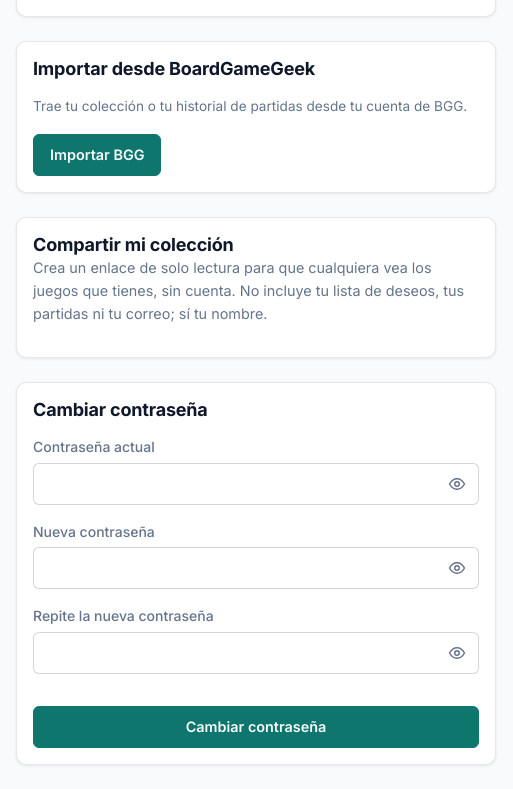
Test: ProfileView change password form › shows a field error when the current password is wrong
(page scrolled)
Type "wrong" into the password field with id "current_password" at (256, 484), box [33,463,479,505]
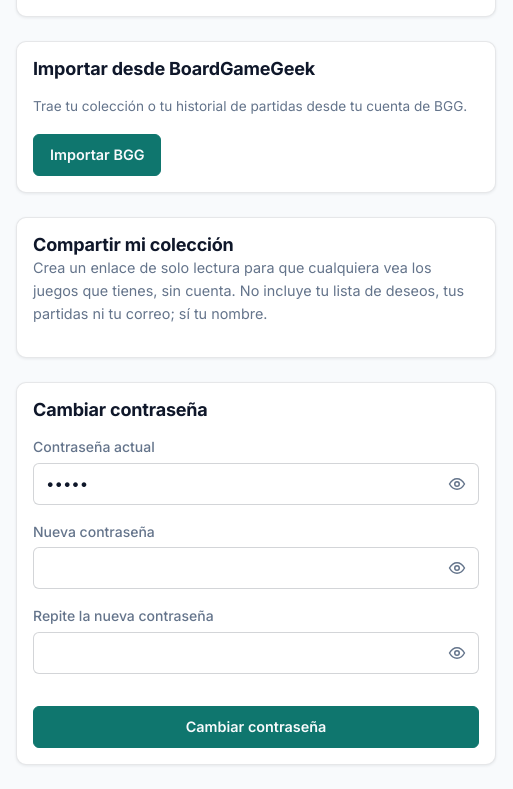
Type "new-password" into the password field with id "new_password" at (256, 568), box [33,547,479,589]
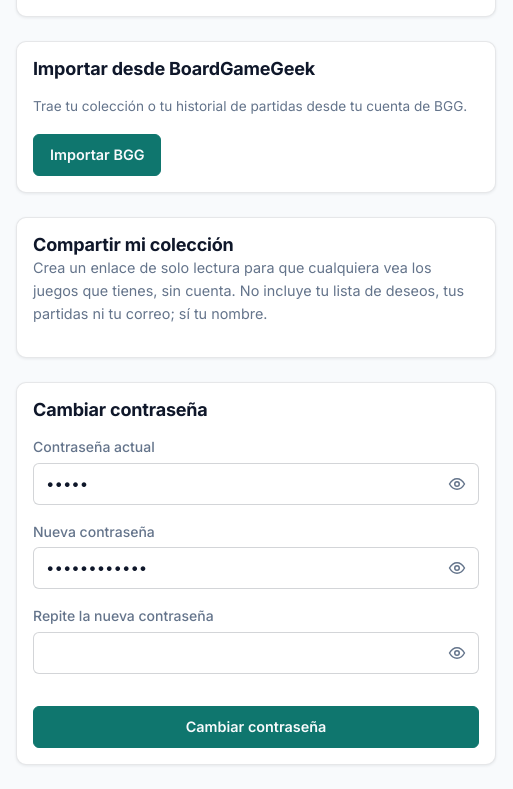
Type "new-password" into the password field with id "new_password_confirmation" at (256, 653), box [33,632,479,674]
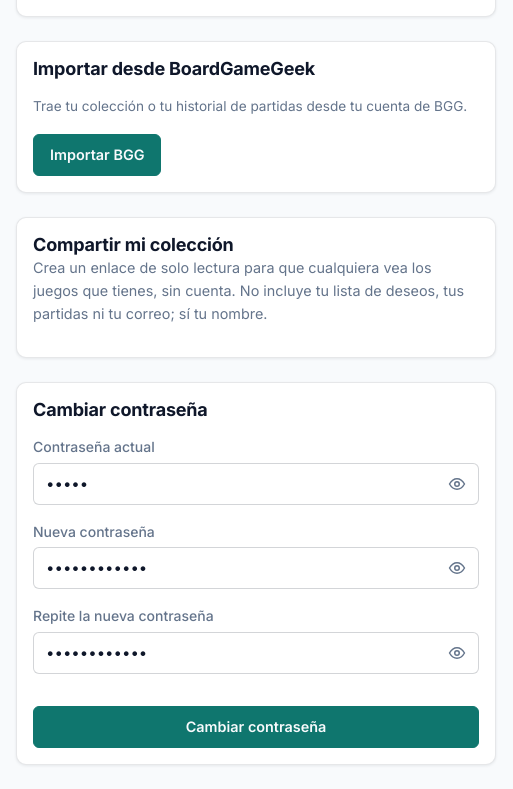
Submit the form that starts with "Contraseña actual", box [33,436,479,748]
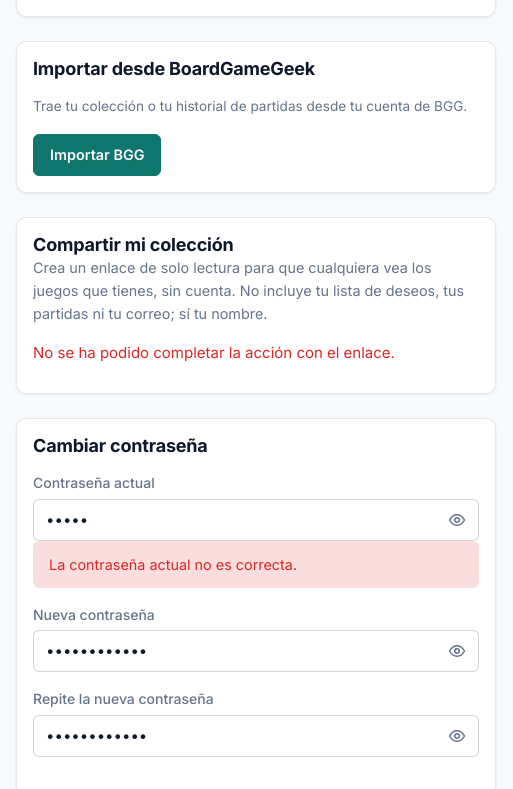
Expected: the text "La contraseña actual no es correcta." is shown, [33,541,479,588]
